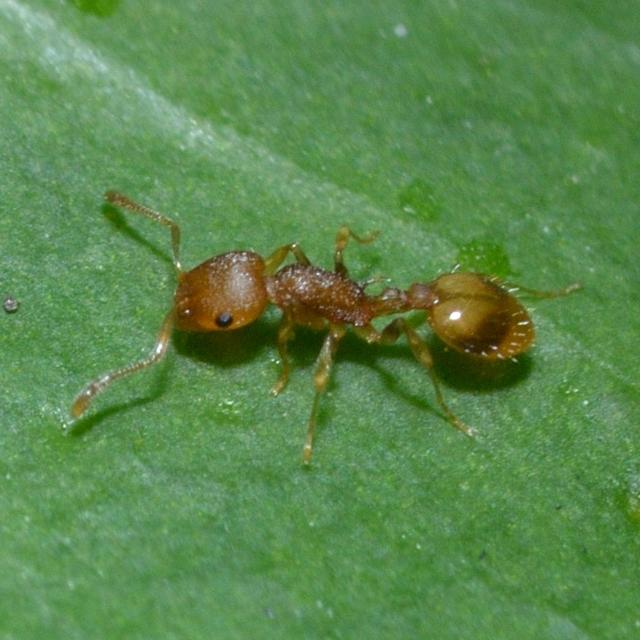Temnothorax: (90, 160, 582, 442)
